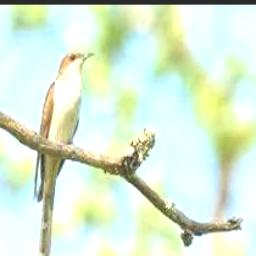Cuckoo: (33, 51, 96, 256)
